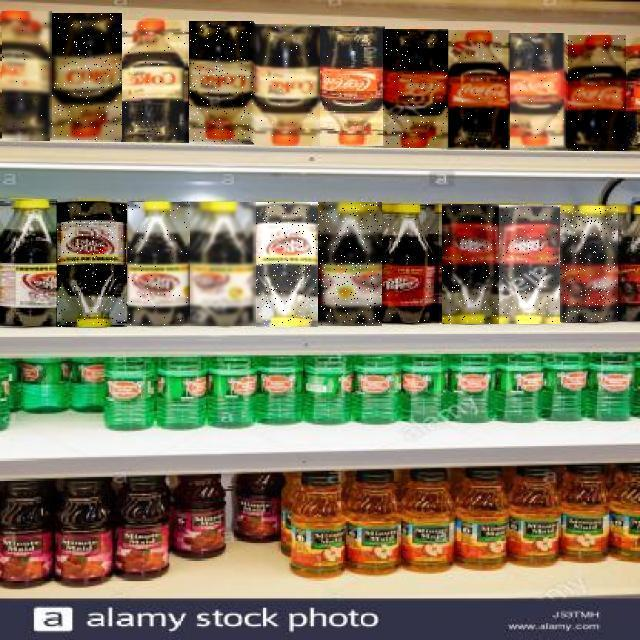Drinks: (50, 14, 122, 142), (56, 201, 127, 327), (190, 202, 256, 326), (125, 202, 190, 326), (255, 25, 321, 147), (190, 22, 256, 144), (122, 20, 188, 142), (254, 202, 318, 327), (318, 202, 382, 326), (320, 26, 385, 146), (383, 29, 448, 148), (447, 30, 510, 150), (499, 205, 561, 324), (0, 199, 57, 327), (382, 204, 442, 324), (442, 204, 500, 324), (568, 35, 626, 151), (510, 34, 568, 150), (560, 206, 618, 322), (2, 12, 52, 140)
